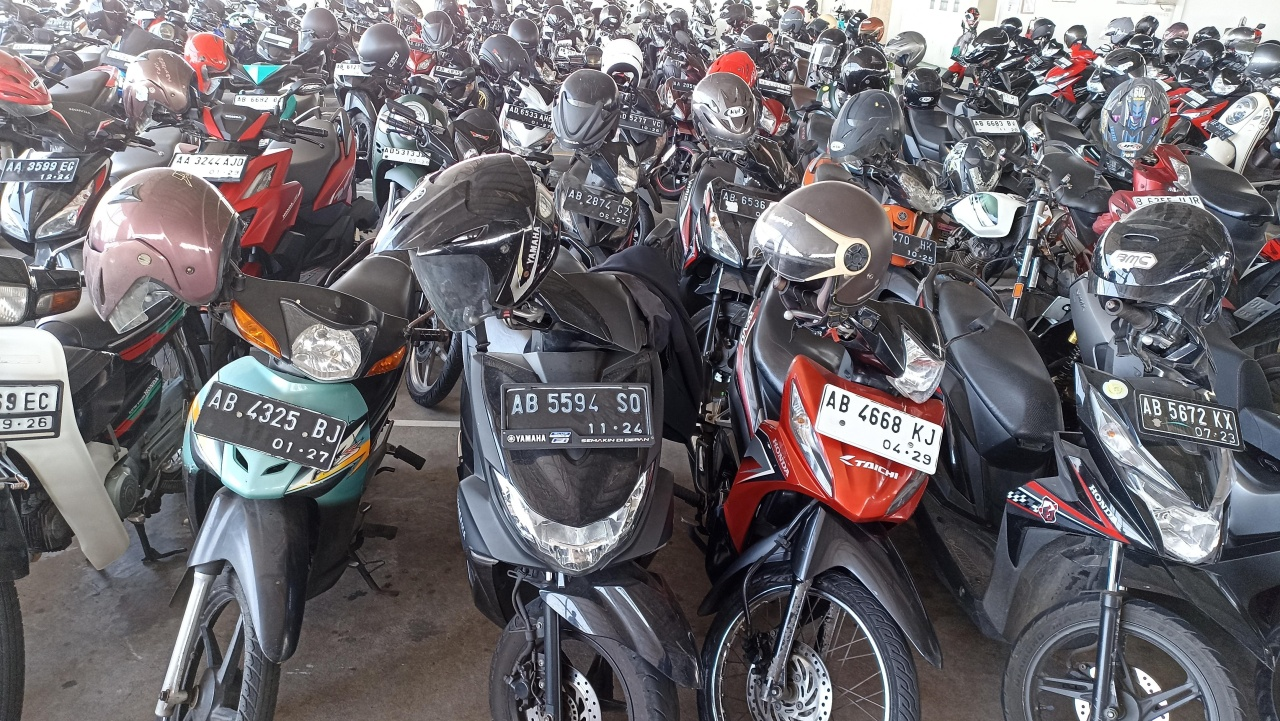plate: (193, 381, 349, 473), (815, 384, 943, 476), (503, 384, 653, 450), (1135, 389, 1243, 450), (563, 186, 632, 229), (165, 152, 251, 181), (0, 158, 80, 183), (971, 118, 1023, 136)
